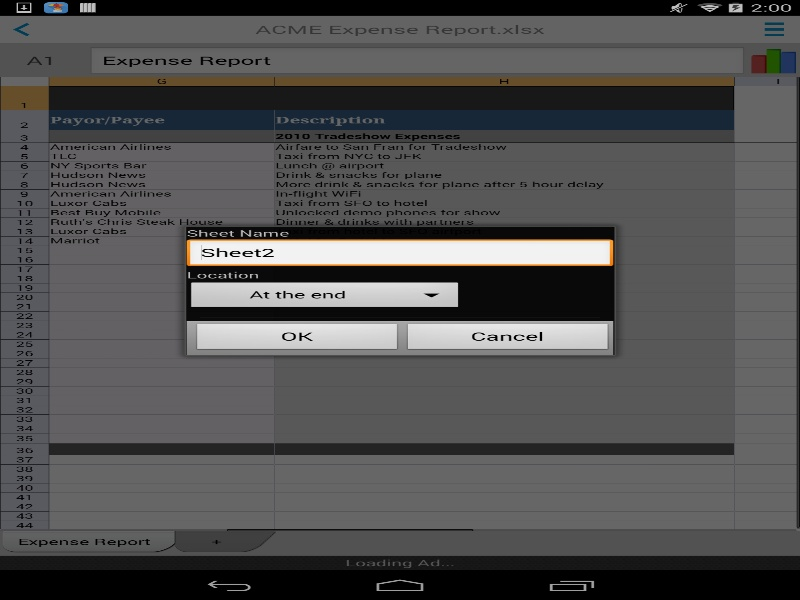Button: (402, 322, 613, 352), (192, 322, 402, 352)
Input: (186, 239, 613, 269)
